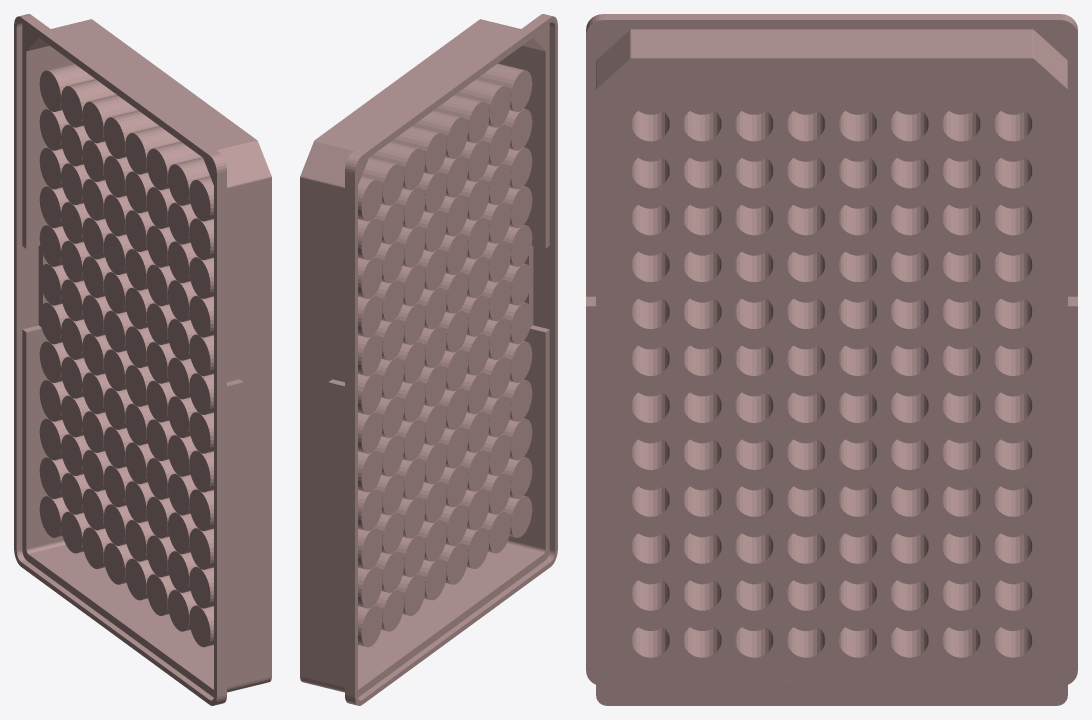
Rendered from uplate.obj.
3 renders of one model, left to right at view 1: azimuth 30°, elevation 25°; view 2: azimuth 150°, elevation 25°; view 3: azimuth 270°, elevation 25°, orthographic. The views are drawn at different scales.
Visible parts, largest first — view 1: MICROPLAQUE_Greiner_F; view 2: MICROPLAQUE_Greiner_F; view 3: MICROPLAQUE_Greiner_F.
Boxes of the visible parts, bbox=[...] form: MICROPLAQUE_Greiner_F: bbox=[14, 14, 271, 705]; MICROPLAQUE_Greiner_F: bbox=[300, 14, 557, 705]; MICROPLAQUE_Greiner_F: bbox=[586, 14, 1077, 705].
Bounding box in the file's own units: 1.44 × 12.78 × 8.55.
